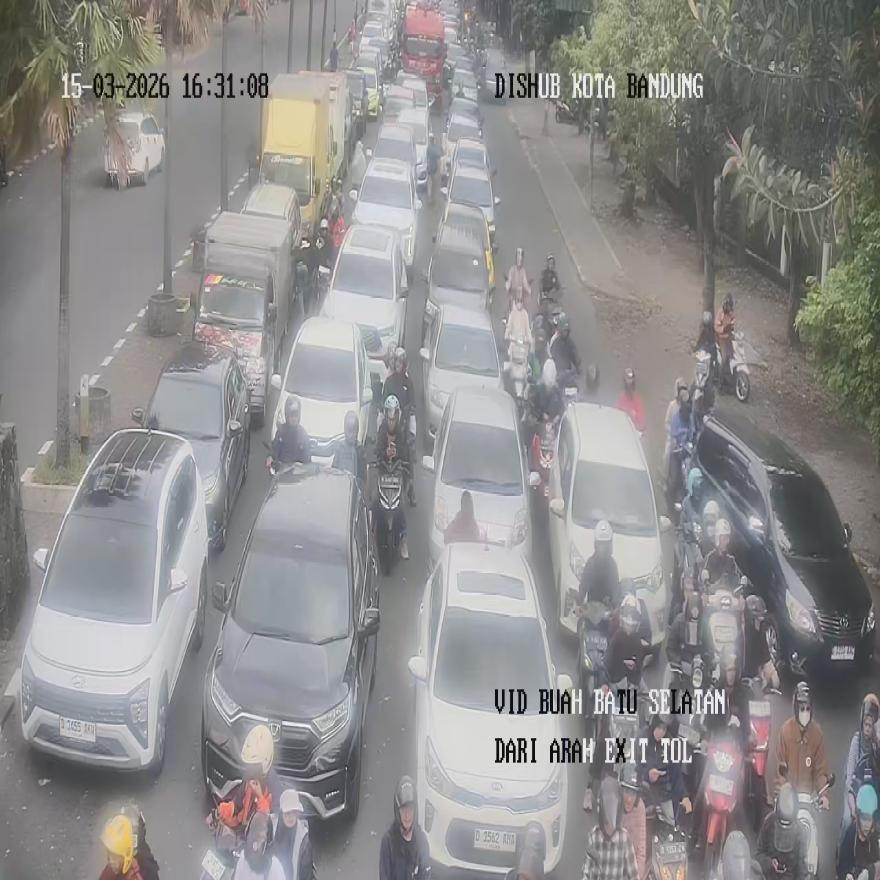Motor: (20, 429, 208, 772), (201, 461, 380, 819), (407, 542, 573, 876), (691, 407, 875, 682), (547, 396, 672, 661), (132, 340, 251, 550), (422, 380, 538, 576), (192, 210, 288, 424), (267, 318, 373, 473), (320, 224, 408, 386), (421, 304, 502, 442), (422, 200, 494, 344), (103, 110, 164, 188)
Truk: (692, 716, 744, 878), (371, 417, 410, 572), (701, 568, 745, 688), (741, 676, 774, 832), (576, 600, 613, 736), (792, 772, 835, 880), (504, 307, 531, 402), (718, 326, 750, 401), (530, 414, 557, 500), (692, 347, 718, 422), (533, 291, 562, 357)
